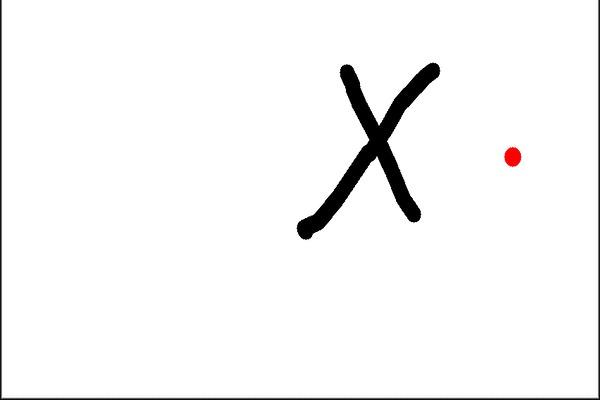X: (290, 49, 447, 239)
